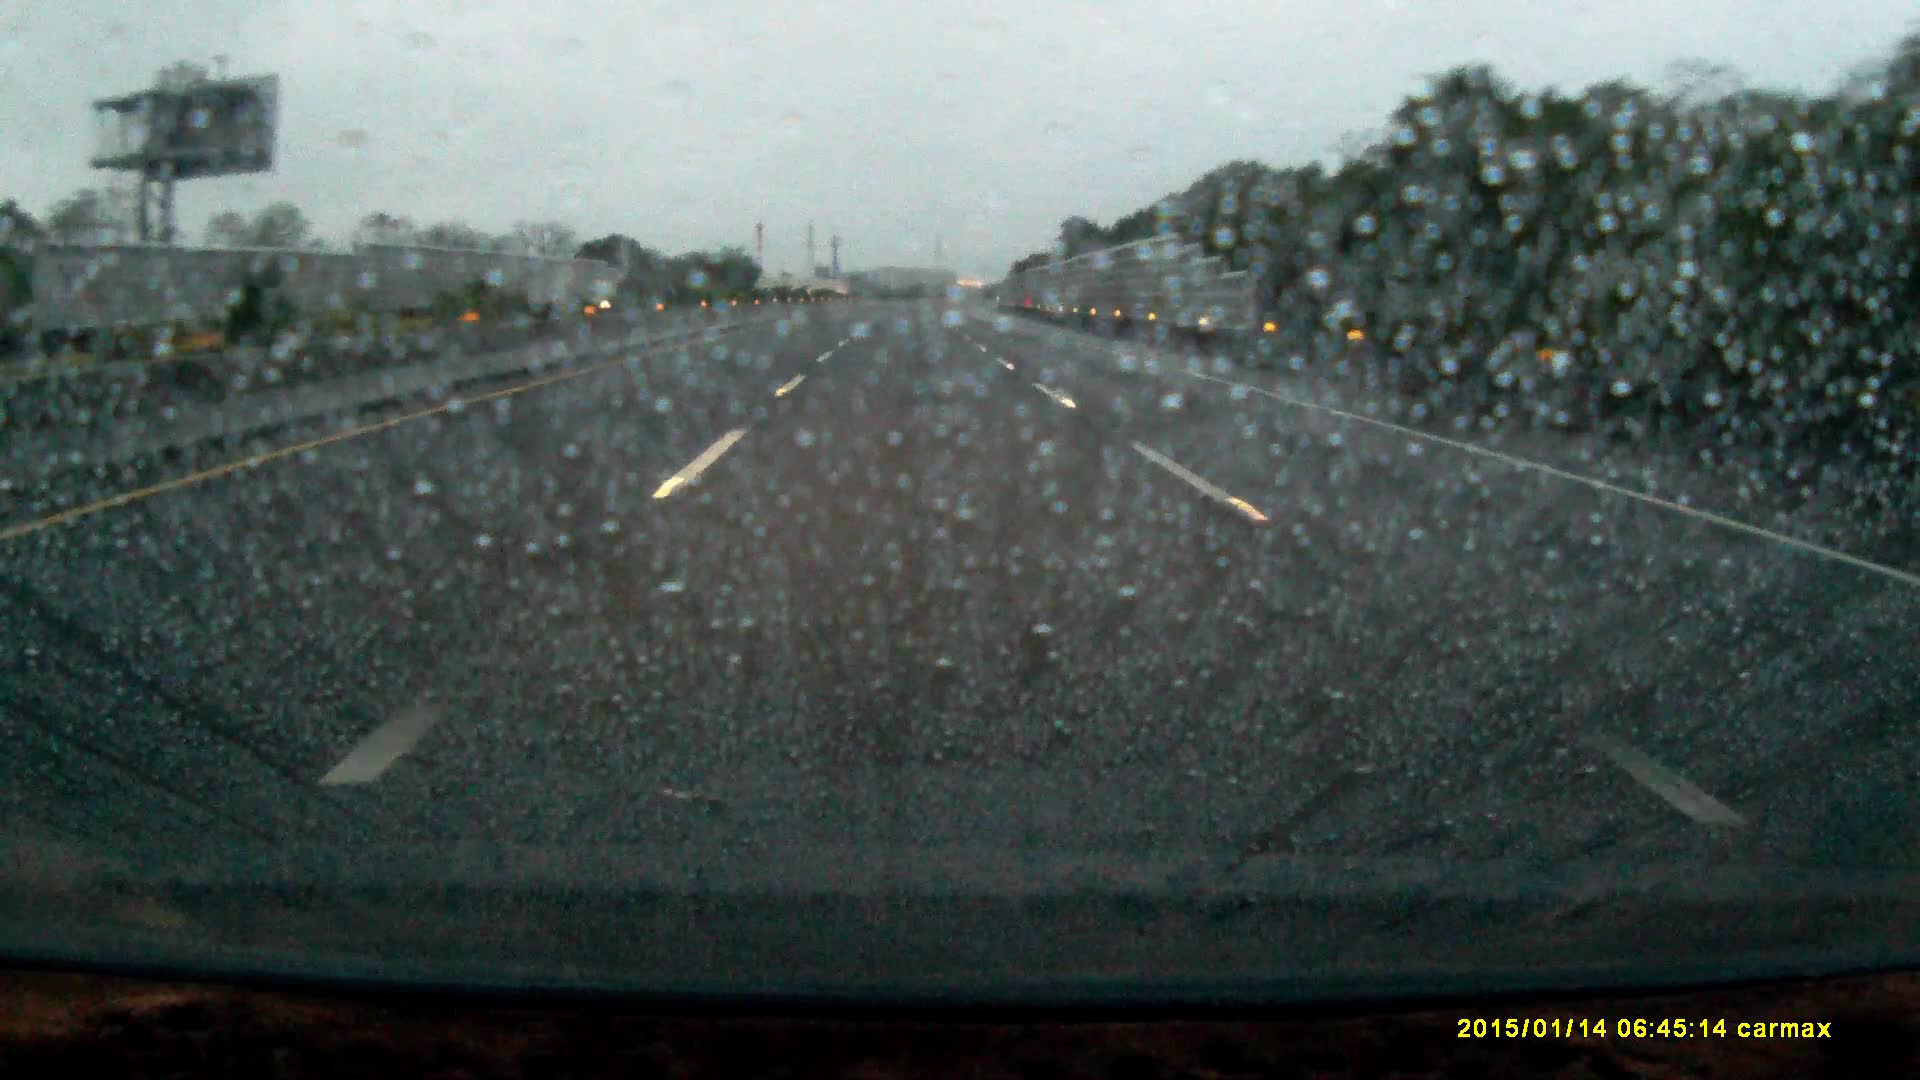vehicle: (568, 282, 630, 310)
